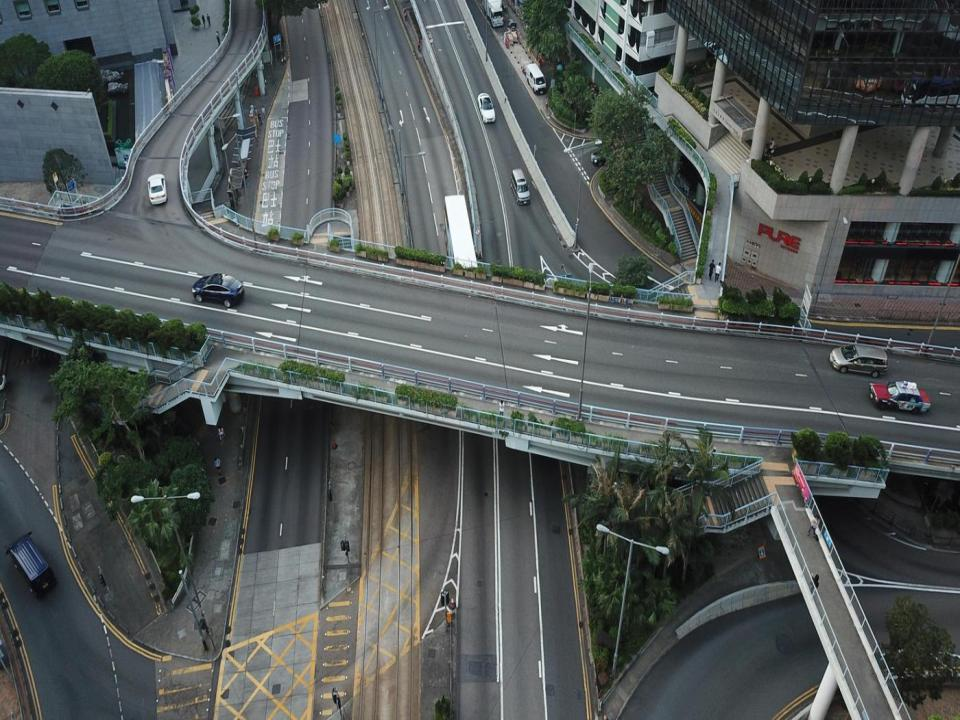bus: (442, 194, 479, 310)
car: (5, 531, 57, 597), (870, 381, 931, 414), (830, 344, 887, 378), (192, 272, 245, 307), (147, 174, 167, 204), (478, 92, 496, 124), (591, 148, 617, 166)
truck: (482, 0, 504, 27)
van: (510, 169, 530, 205), (527, 62, 545, 92)
